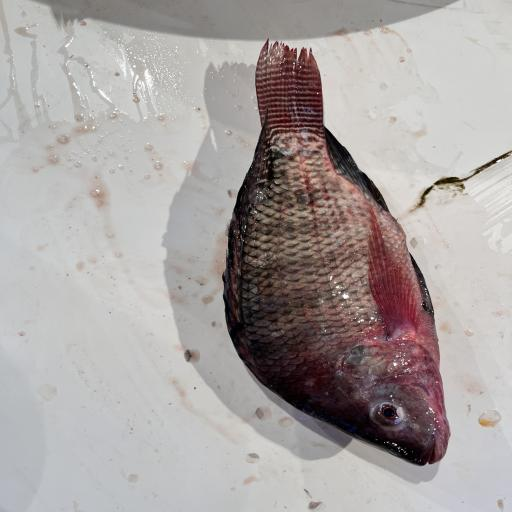Tilapia: (222, 38, 451, 467)
